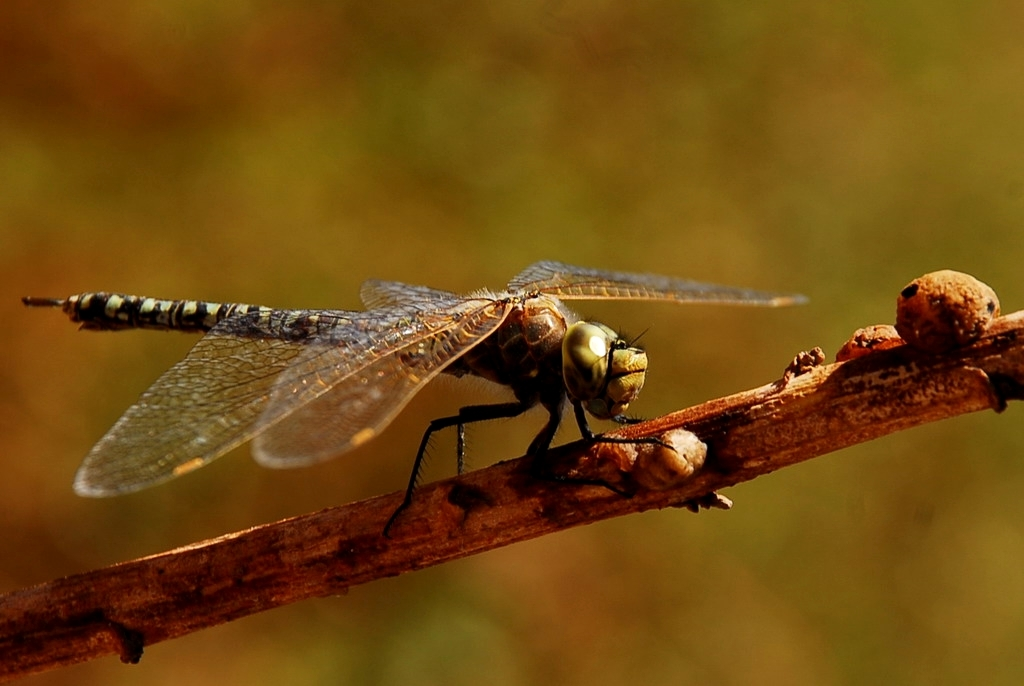person: (58, 281, 656, 460)
